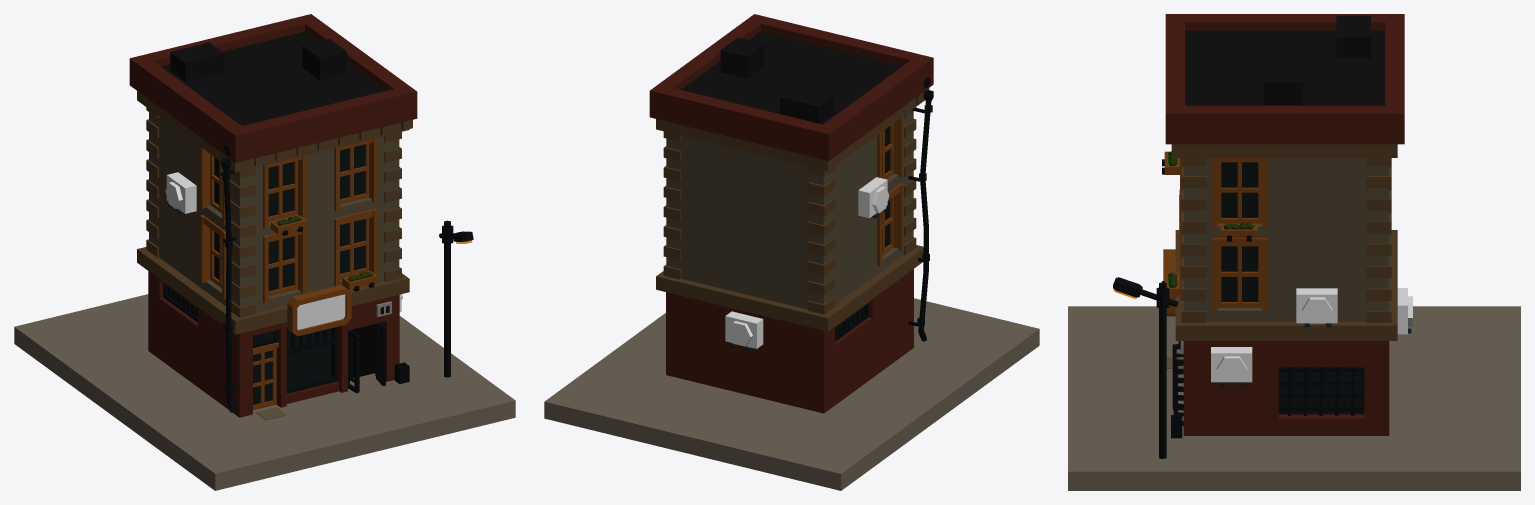
The model's file is SF_Modern Building 11.fbx.
The picture shows the model from 3 angles, left to right: view 1: azimuth 30°, elevation 25°; view 2: azimuth 150°, elevation 25°; view 3: azimuth 270°, elevation 25°; orthographic projection. The views are drawn at different scales.
Parts seen in each view (by area): view 1: Box16709, Box16732, Box16728, Box16729, Box16710, Box16725, Box16727, Box16741, Plane1454, Box16731, Cylinder1821, Box16763 (+11 smaller); view 2: Box16709, Box16732, Box16710, Box16728, Box16729, Box16725, Box16731, Box16743, Cylinder1821, Box16742, Box16763, Box16764 (+3 smaller); view 3: Box16709, Box16732, Box16710, Box16729, Box16728, Box16725, Box16731, Box16740, Box16742, Plane1455, Box16716, street_light_038 (+5 smaller).
Boxes of the visible parts, <box> form: Box16709: <box>14,294,515,490</box>; Box16732: <box>129,14,417,162</box>; Box16728: <box>149,175,399,312</box>; Box16729: <box>149,112,399,241</box>; Box16710: <box>148,271,399,417</box>; Box16725: <box>137,247,409,334</box>; Box16727: <box>287,285,351,336</box>; Box16741: <box>229,167,255,317</box>; Plane1454: <box>286,328,331,388</box>; Box16731: <box>137,91,409,172</box>; Cylinder1821: <box>220,144,235,412</box>; Box16763: <box>170,42,224,81</box>; Box16709: <box>544,298,1039,490</box>; Box16732: <box>649,14,933,160</box>; Box16710: <box>666,269,913,413</box>; Box16728: <box>666,174,913,309</box>; Box16729: <box>666,112,913,239</box>; Box16725: <box>656,245,923,331</box>; Box16731: <box>656,98,924,171</box>; Box16743: <box>808,166,835,314</box>; Cylinder1821: <box>908,77,933,341</box>; Box16742: <box>663,131,681,279</box>; Box16763: <box>780,86,833,123</box>; Box16764: <box>720,37,764,78</box>; Box16709: <box>1068,306,1520,490</box>; Box16732: <box>1165,14,1404,144</box>; Box16710: <box>1183,341,1389,435</box>; Box16729: <box>1180,158,1388,237</box>; Box16728: <box>1180,215,1388,321</box>; Box16725: <box>1175,230,1397,340</box>; Box16731: <box>1175,144,1397,157</box>; Box16740: <box>1181,158,1206,322</box>; Box16742: <box>1366,158,1391,322</box>; Plane1455: <box>1278,367,1364,414</box>; Box16716: <box>1278,367,1364,415</box>; street_light_038: <box>1113,277,1178,458</box>.
Size of the model in its own units: 1100 by 1128 by 1274.
